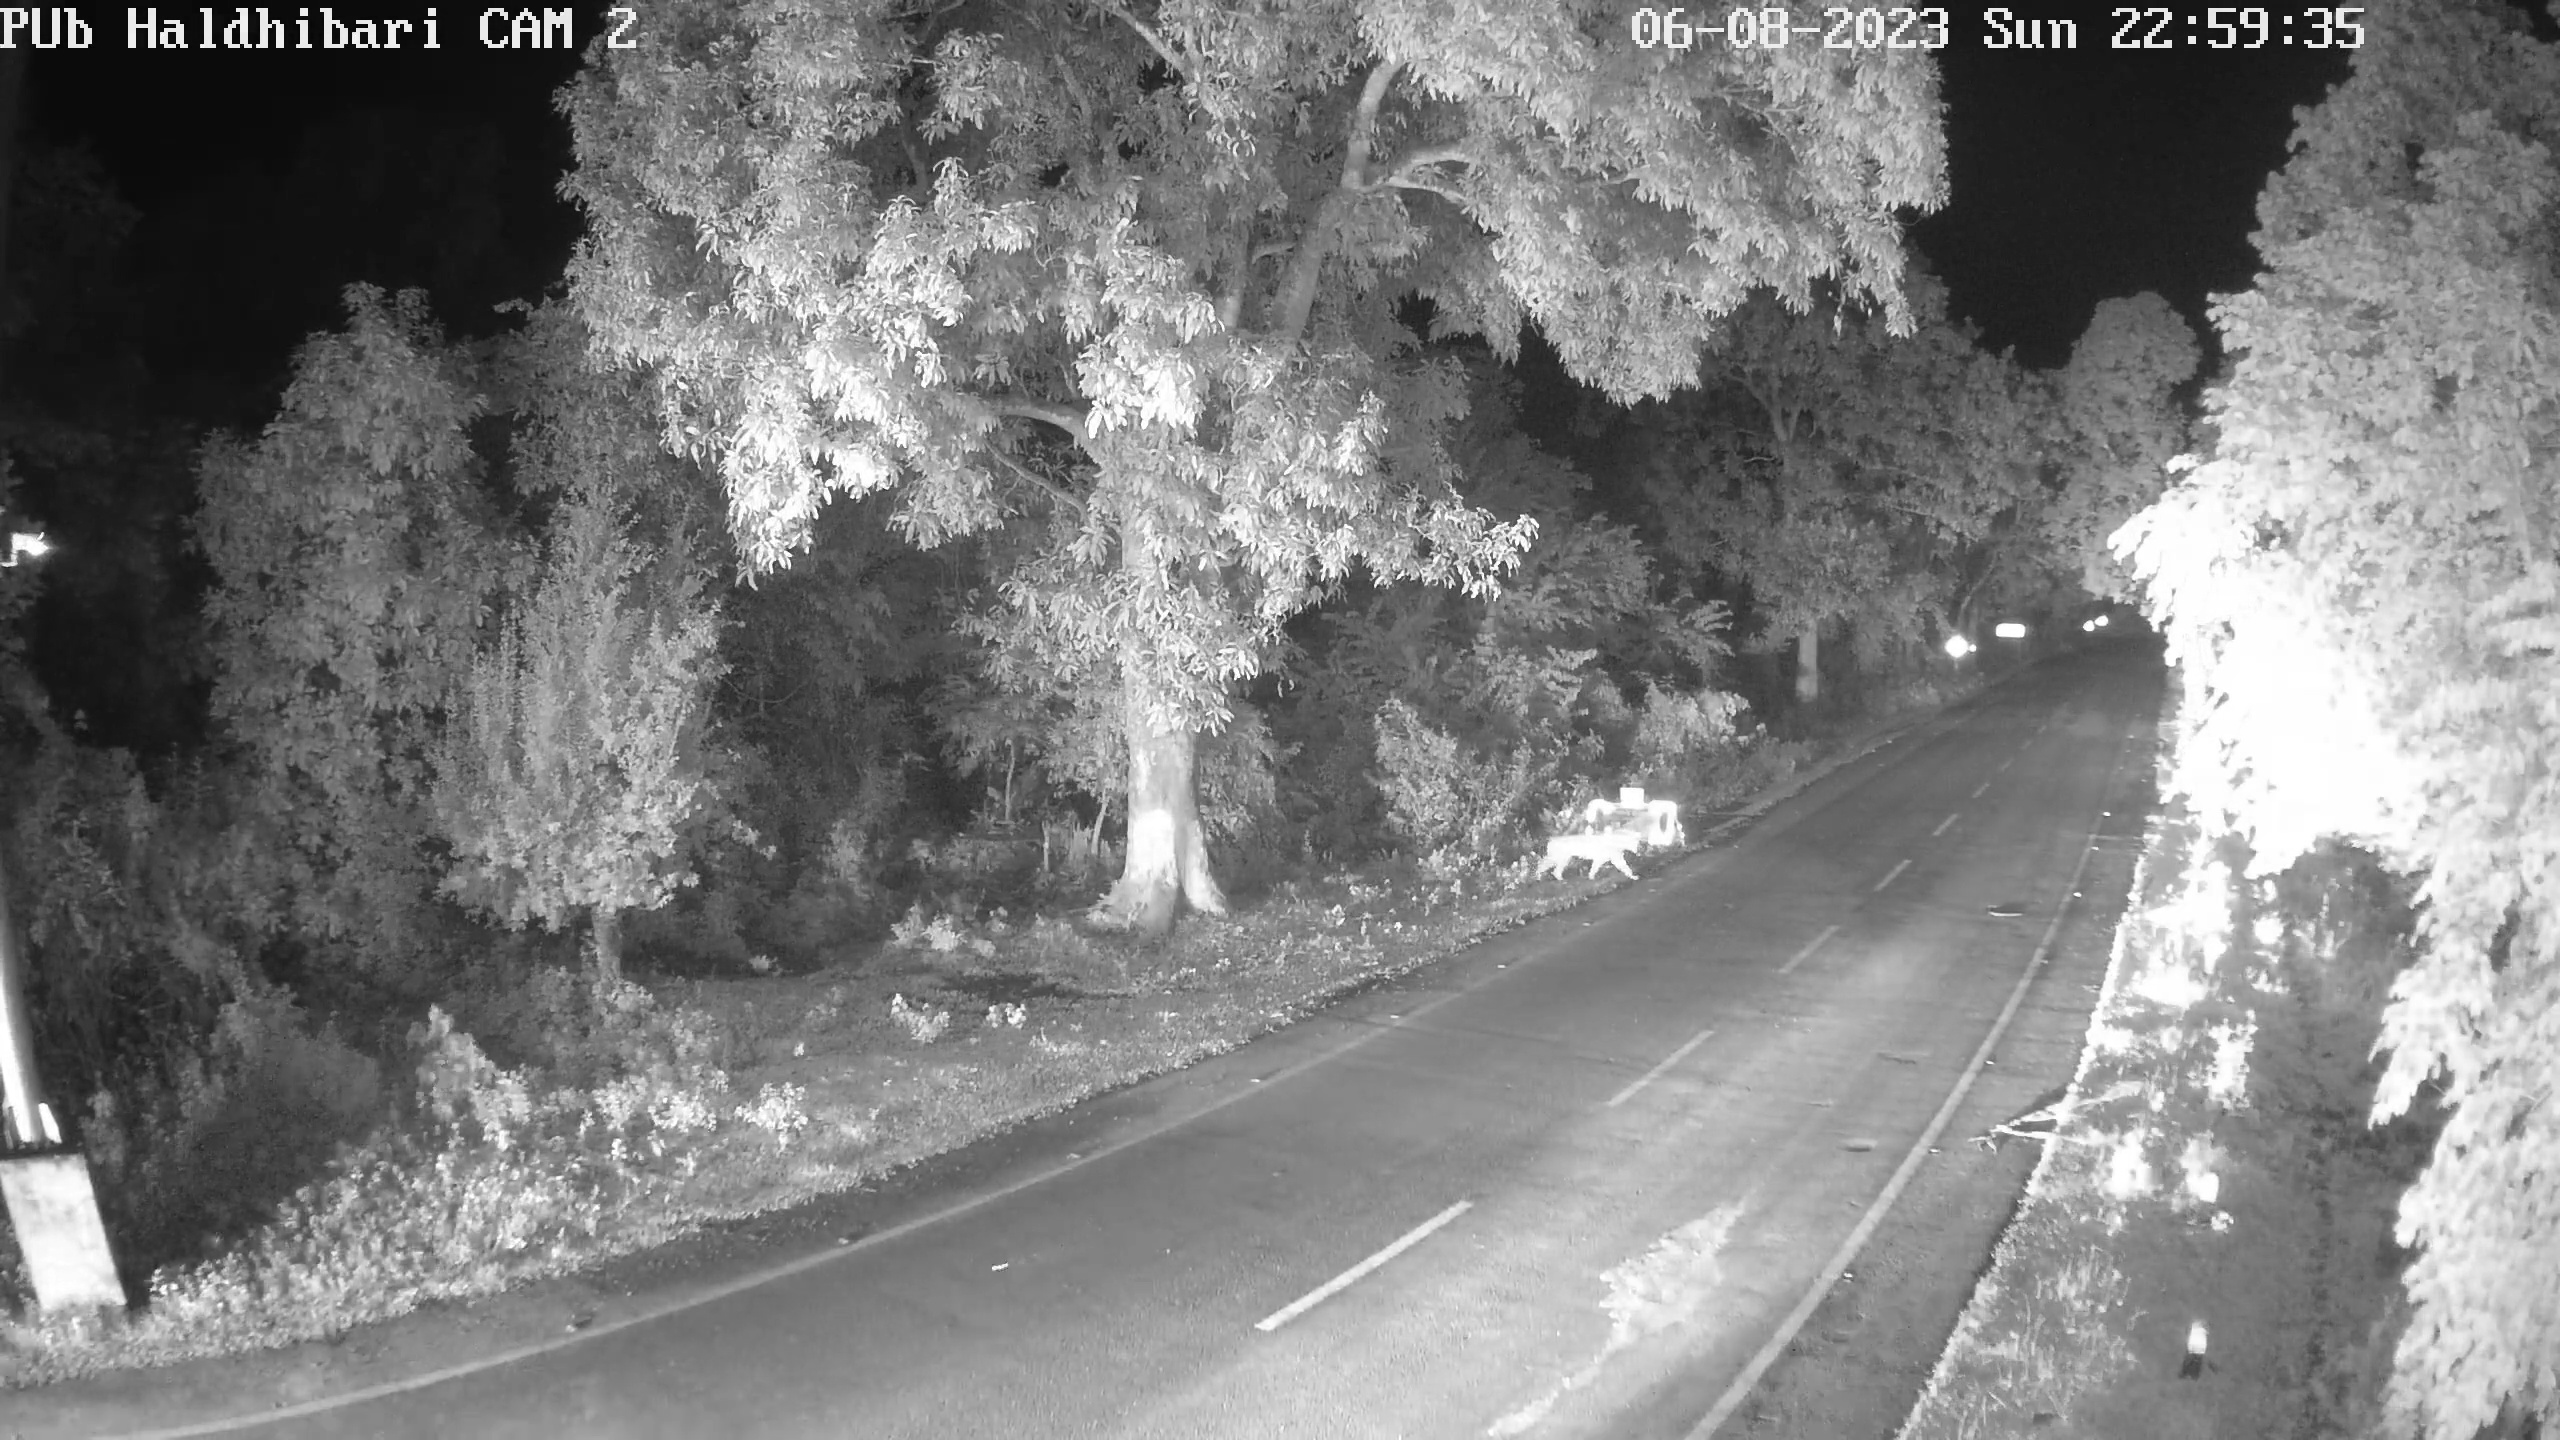tigers: (1530, 825, 1649, 886)
